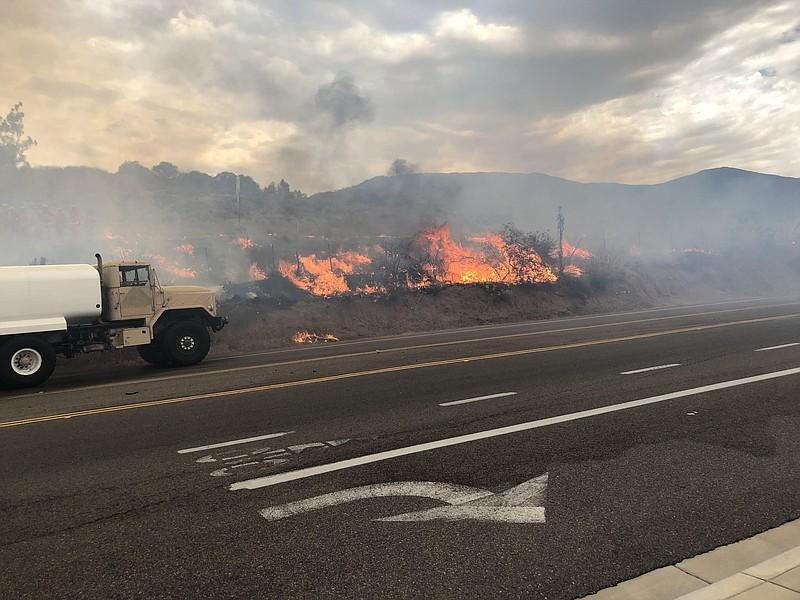fire: (432, 235, 560, 284), (292, 244, 369, 300)
